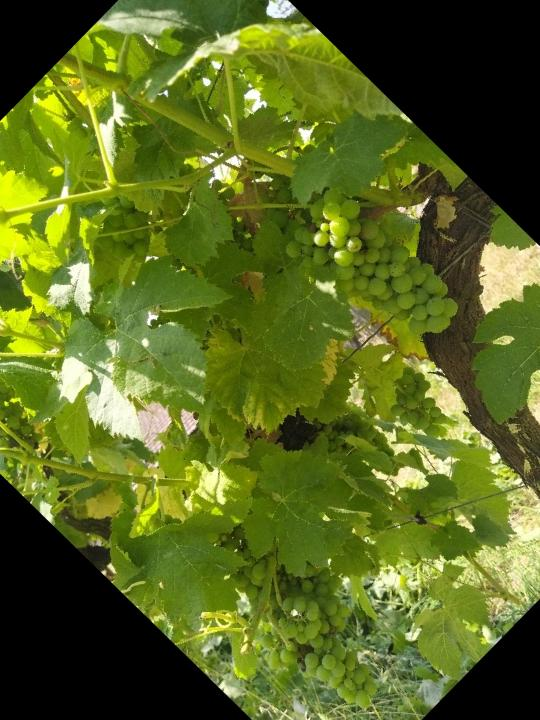grape: (273, 174, 474, 374), (241, 582, 397, 720)
